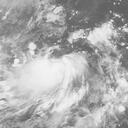cyclone: (21, 55, 90, 104)
